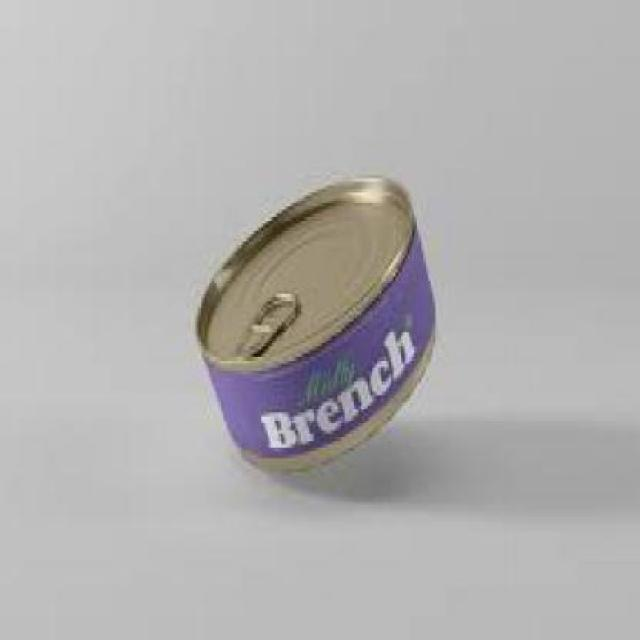METAL: (193, 168, 433, 475)
